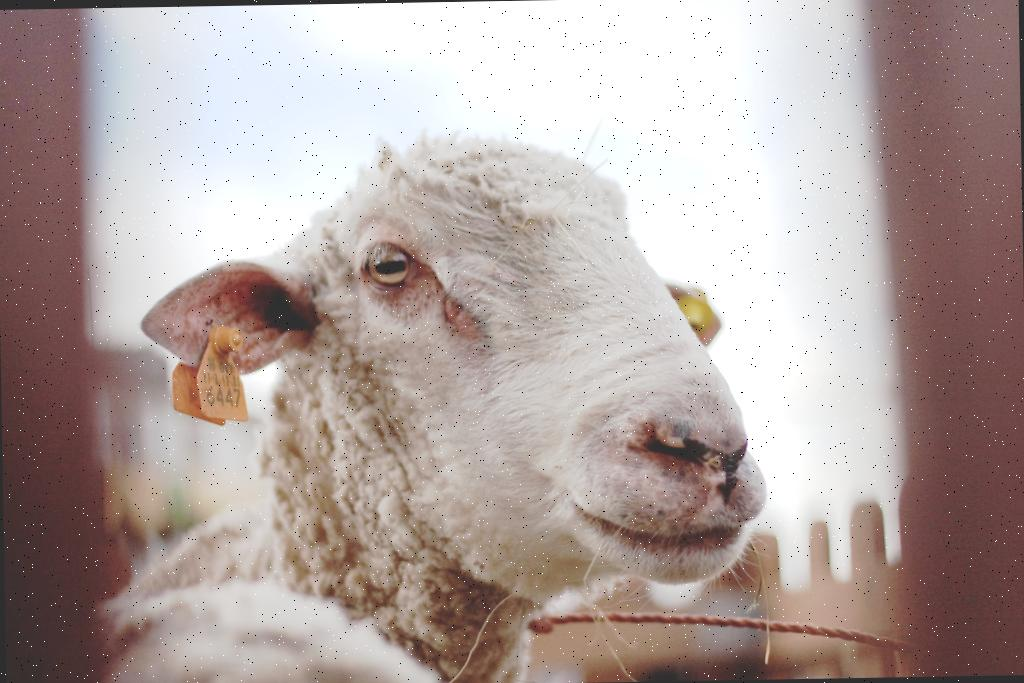Sheep: (122, 67, 806, 683)
